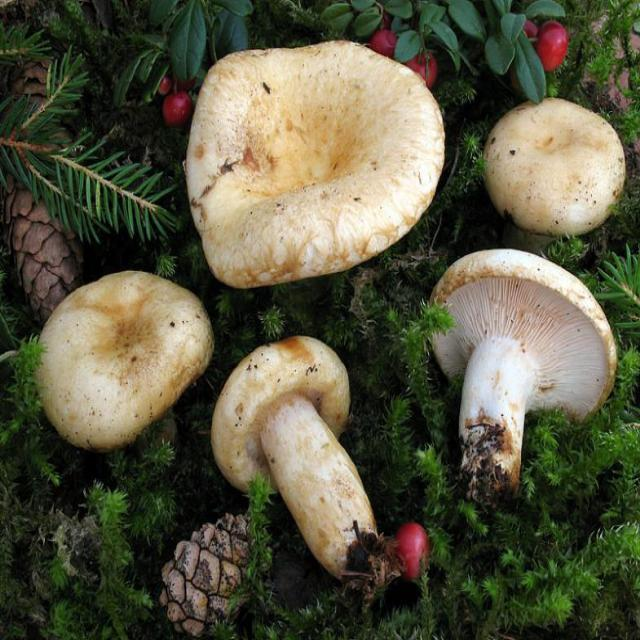Armillaria mellea: (185, 38, 444, 284), (428, 249, 615, 513), (208, 339, 383, 589), (37, 270, 212, 453), (486, 99, 627, 238)
